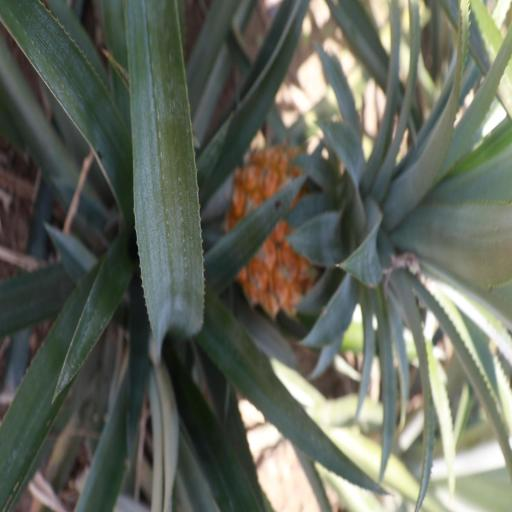Pineapple - v8 v1: (232, 139, 512, 320)
